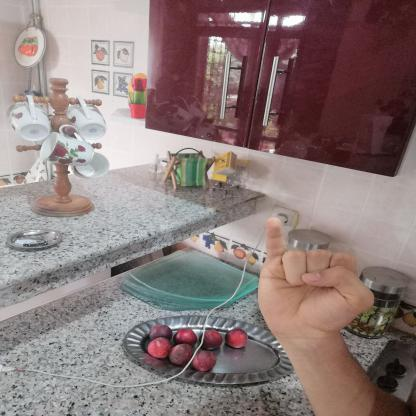MEEM: (244, 210, 387, 346)
